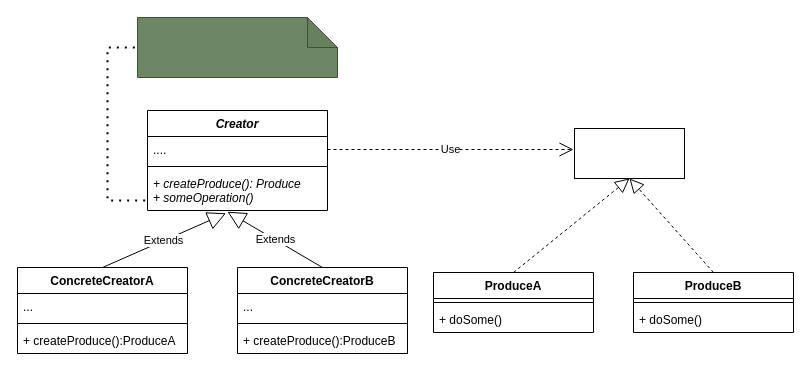
This 811x374 diagram has some shape labels left out. The centre of each missing label's shape, as x and y in pixels:
Produce p = createProduce() p.doSome(): (x=237, y=47)
«interface» Produce: (x=629, y=153)
